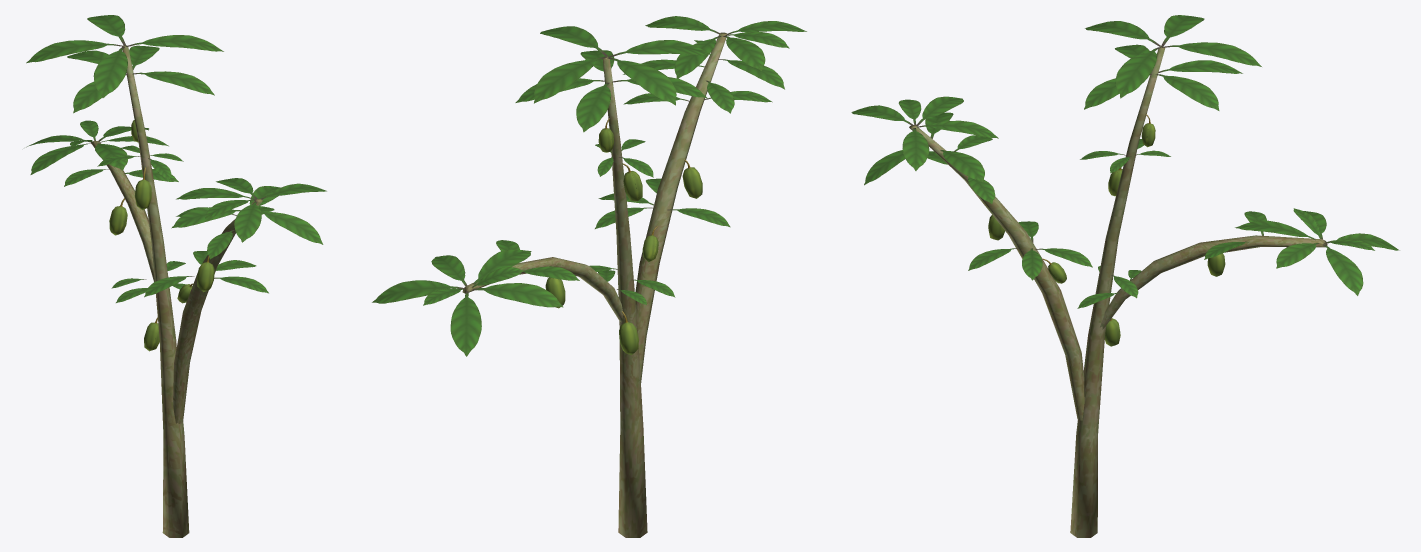
The model's file is Model_PeVerdeCacauTexture_v1.fbx.
The picture shows the model from 3 angles, left to right: view 1: azimuth 30°, elevation 25°; view 2: azimuth 150°, elevation 25°; view 3: azimuth 270°, elevation 25°; orthographic projection. The views are drawn at different scales.
Visible parts, largest first — view 1: NurbsPath.016; view 2: NurbsPath.016; view 3: NurbsPath.016.
Boxes of the visible parts, x1=… form: NurbsPath.016: x1=26, y1=15, x2=326, y2=537; NurbsPath.016: x1=372, y1=16, x2=806, y2=537; NurbsPath.016: x1=851, y1=15, x2=1399, y2=537.
Size of the model in its own units: 187 by 388 by 410.
1 material, 1 textured.
